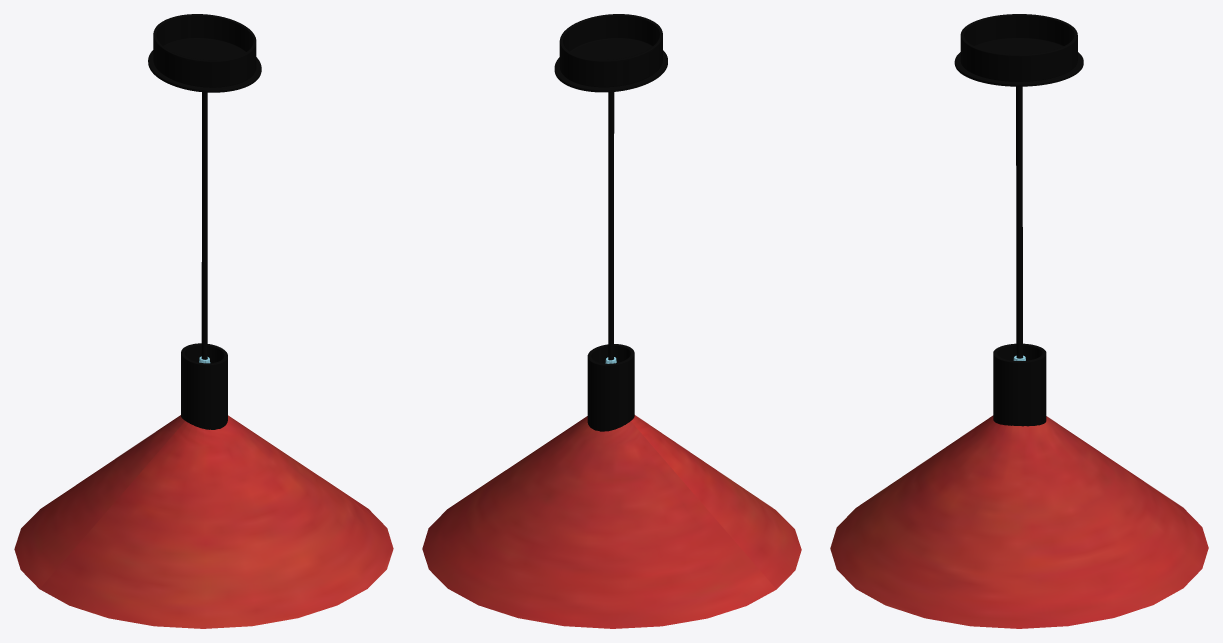
The model's file is focoMuseo.obj.
3 renders of one model, left to right at view 1: azimuth 30°, elevation 25°; view 2: azimuth 150°, elevation 25°; view 3: azimuth 270°, elevation 25°, orthographic.
Parts seen in each view (by area): view 1: Cone002, aFocoN; view 2: Cone002, aFocoN; view 3: Cone002, aFocoN.
Boxes of the visible parts, x1=… form: Cone002: x1=14, y1=415, x2=393, y2=628; aFocoN: x1=148, y1=14, x2=261, y2=429; Cone002: x1=422, y1=415, x2=801, y2=628; aFocoN: x1=554, y1=14, x2=667, y2=431; Cone002: x1=830, y1=415, x2=1208, y2=628; aFocoN: x1=954, y1=14, x2=1083, y2=426.
Size of the model in its own units: 19.78 by 31.9 by 19.6.
